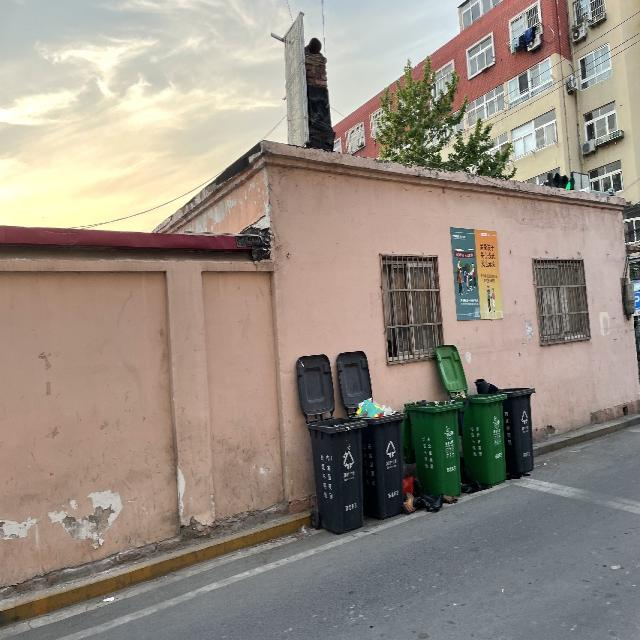garbage: (402, 447, 456, 514)
garbage_bin: (308, 416, 367, 535), (474, 377, 534, 478), (402, 400, 462, 496), (454, 394, 508, 485)
overflow: (350, 397, 404, 519)
